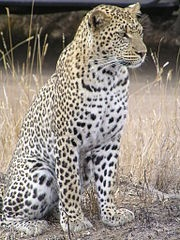leopard: (1, 1, 149, 238)
